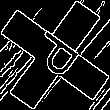P_SE: (23, 25, 87, 85)
